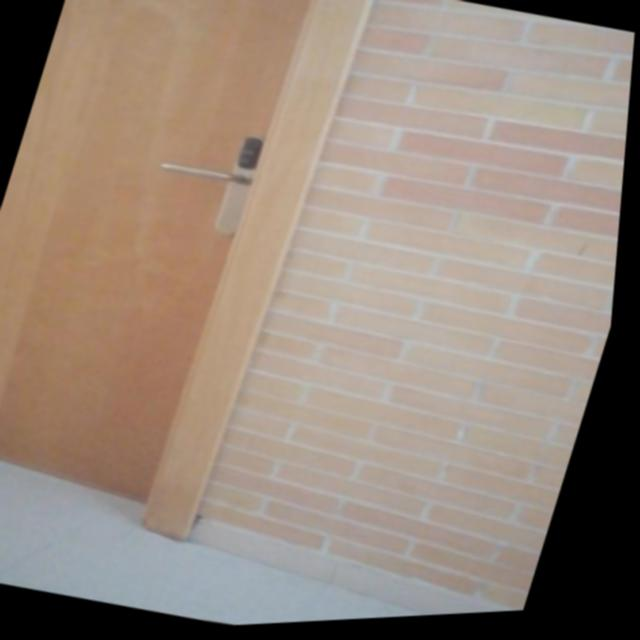door_handle: (148, 152, 258, 202)
